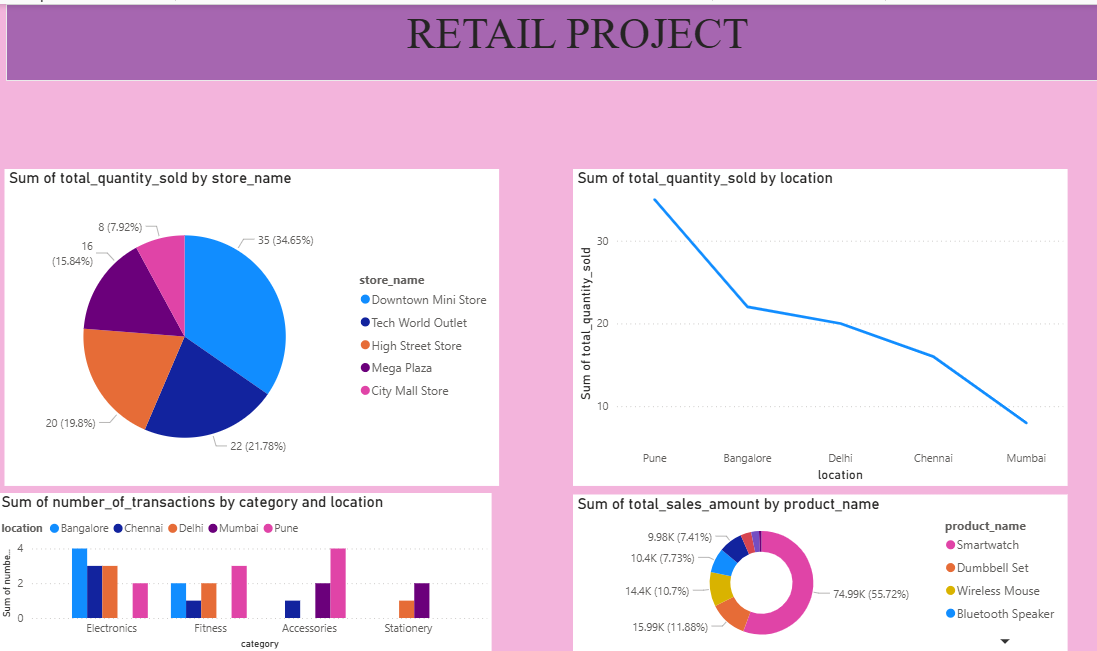

The page's visual inventory and layout, read from the dashboard file:
{"tool":"powerbi","page":{"name":"Page 1","canvas":[1280,720],"ordinal":0},"visuals":[{"type":"textbox","box":[9.4,0,1269.9,85],"z":0},{"type":"pieChart","fields":{"Y":["Sum(result.total_quantity_sold)"],"Category":["result.store_name"]},"box":[8.5,183.1,549.4,352.2],"z":1},{"type":"lineChart","fields":{"Y":["Sum(result.total_quantity_sold)"],"Category":["result.location"]},"box":[639.5,183.1,549.4,352.2],"z":2},{"type":"clusteredColumnChart","fields":{"Y":["Sum(result.number_of_transactions)"],"Category":["result.category"],"Series":["result.location"]},"box":[0,543.7,549.4,177.5],"z":3},{"type":"donutChart","fields":{"Category":["result.product_name"],"Y":["Sum(result.total_sales_amount)"]},"box":[640,544,549,176],"z":4}]}

Visuals, with their boxes on the page's 1280x720 design canvas (x1, y1, x2, y2). These are canvas units, not pixel positions in the 1097x651 screenshot, which may show the page scaled, cropped or inside an application window:
textbox: 9, 0, 1279, 85
pieChart - Sum(result.total_quantity_sold) x result.store_name: 8, 183, 558, 535
lineChart - Sum(result.total_quantity_sold) x result.location: 640, 183, 1189, 535
clusteredColumnChart - Sum(result.number_of_transactions) x result.category: 0, 544, 549, 721
donutChart - result.product_name x Sum(result.total_sales_amount): 640, 544, 1189, 720
